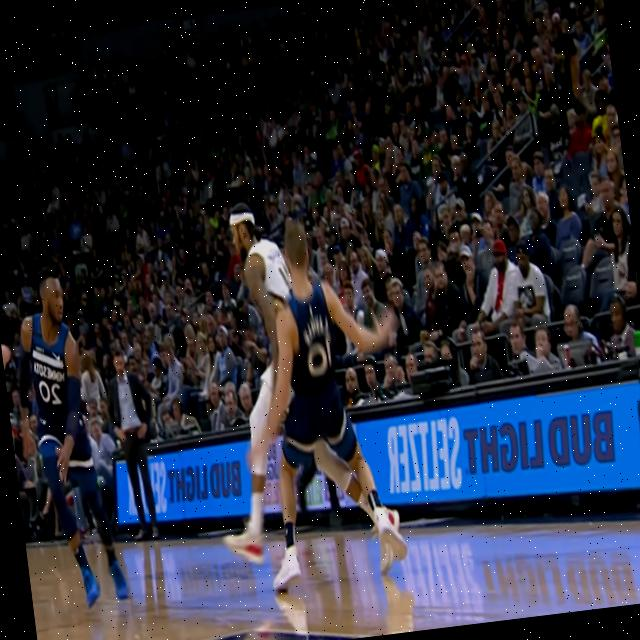Foul: (228, 209, 359, 476)
